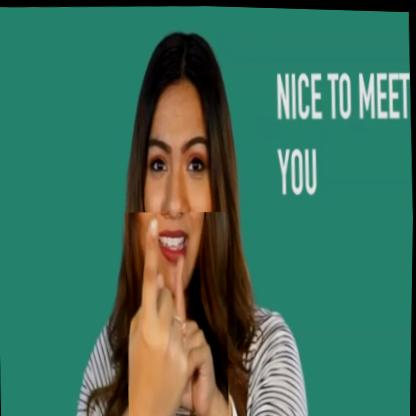NiceToMeetYou: (123, 208, 233, 416)
